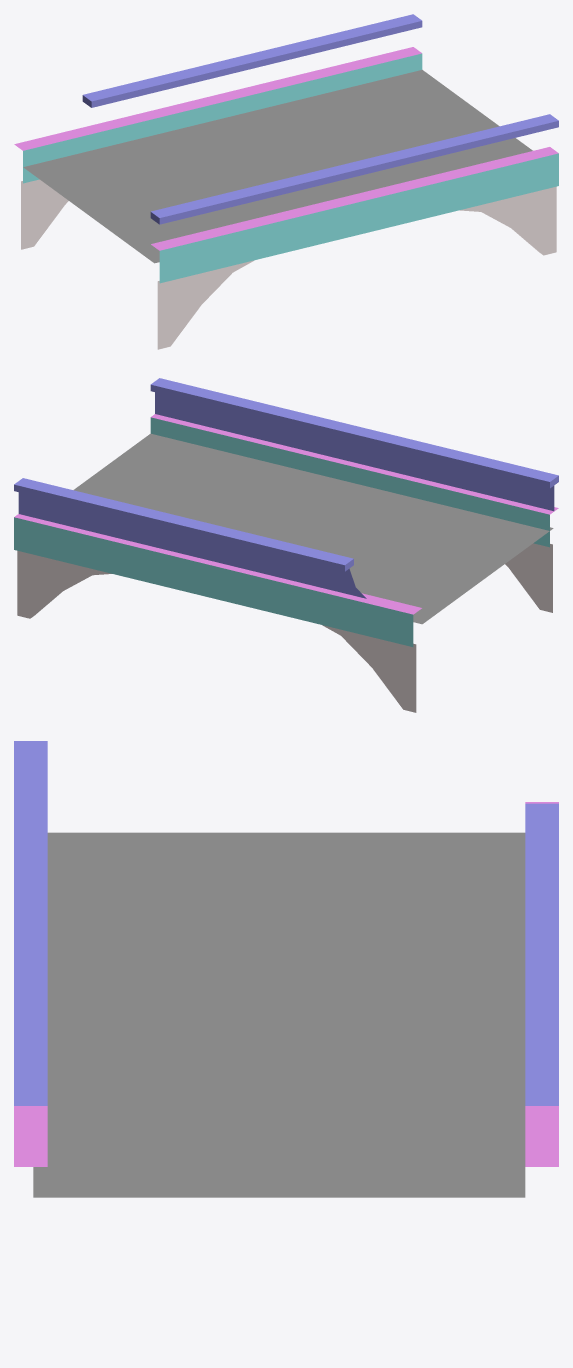
Rendered from bridg_etc.gltf.
The picture shows the model from 3 angles, top to bottom: view 1: azimuth 30°, elevation 25°; view 2: azimuth 150°, elevation 25°; view 3: azimuth 270°, elevation 25°; orthographic projection. The views are drawn at different scales.
Parts seen in each view (by area): view 1: bridg_etc; view 2: bridg_etc; view 3: bridg_etc.
Boxes of the visible parts, x1,y1,x2,y2 form: bridg_etc: (14,14,558,349); bridg_etc: (14,378,558,712); bridg_etc: (14,741,558,1197).
Bounding box in the file's own units: 2.56 × 0.8135 × 1.62.
